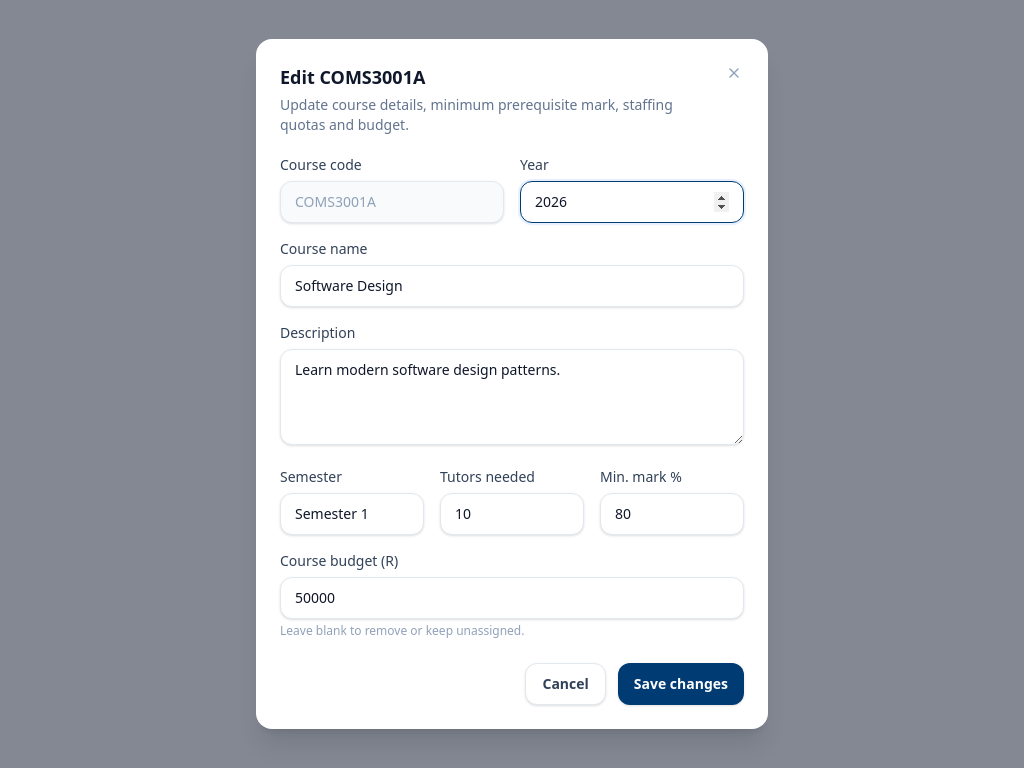
EditCourseModal › displays an error message when update API fails
Click the button "Save changes" at x=681, y=684, box [618,663,744,705]
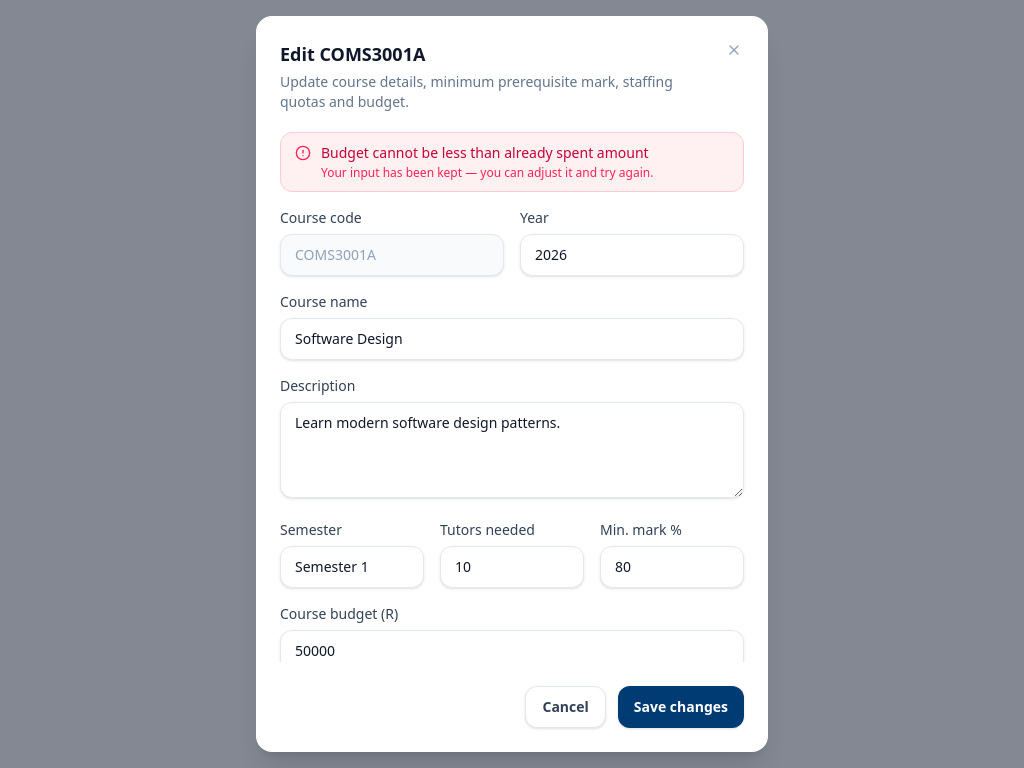
Expected: the message shows "Budget cannot be less than already spent amount", [321,143,649,162]
